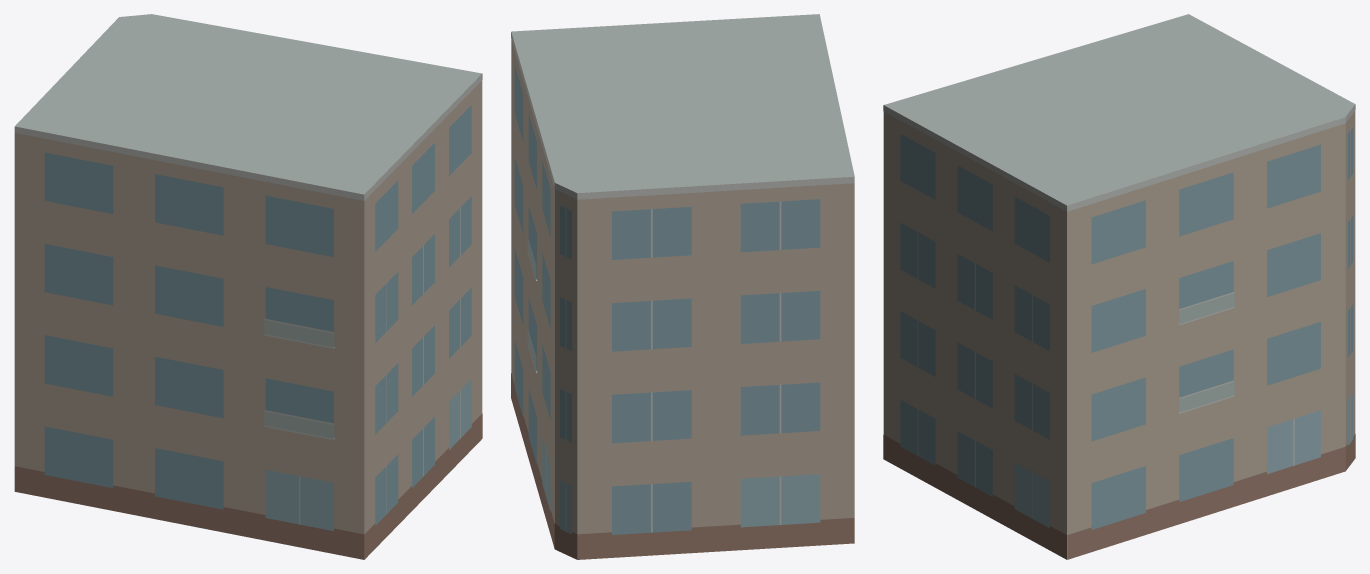
File: survey-upis-33046559.glb
3 views of the same model, side by side, from view 1: azimuth 30°, elevation 25°; view 2: azimuth 150°, elevation 25°; view 3: azimuth 270°, elevation 25° (orthographic). The views are drawn at different scales.
Visible parts, largest first — view 1: survey-upis-33046559.tmp; view 2: survey-upis-33046559.tmp; view 3: survey-upis-33046559.tmp.
Part boxes in pixels (x1,y1,x2,y2): survey-upis-33046559.tmp: [14, 14, 482, 559]; survey-upis-33046559.tmp: [511, 14, 854, 559]; survey-upis-33046559.tmp: [883, 14, 1355, 559].
Bounding box in the file's own units: 16.14 × 13.9 × 16.79.
